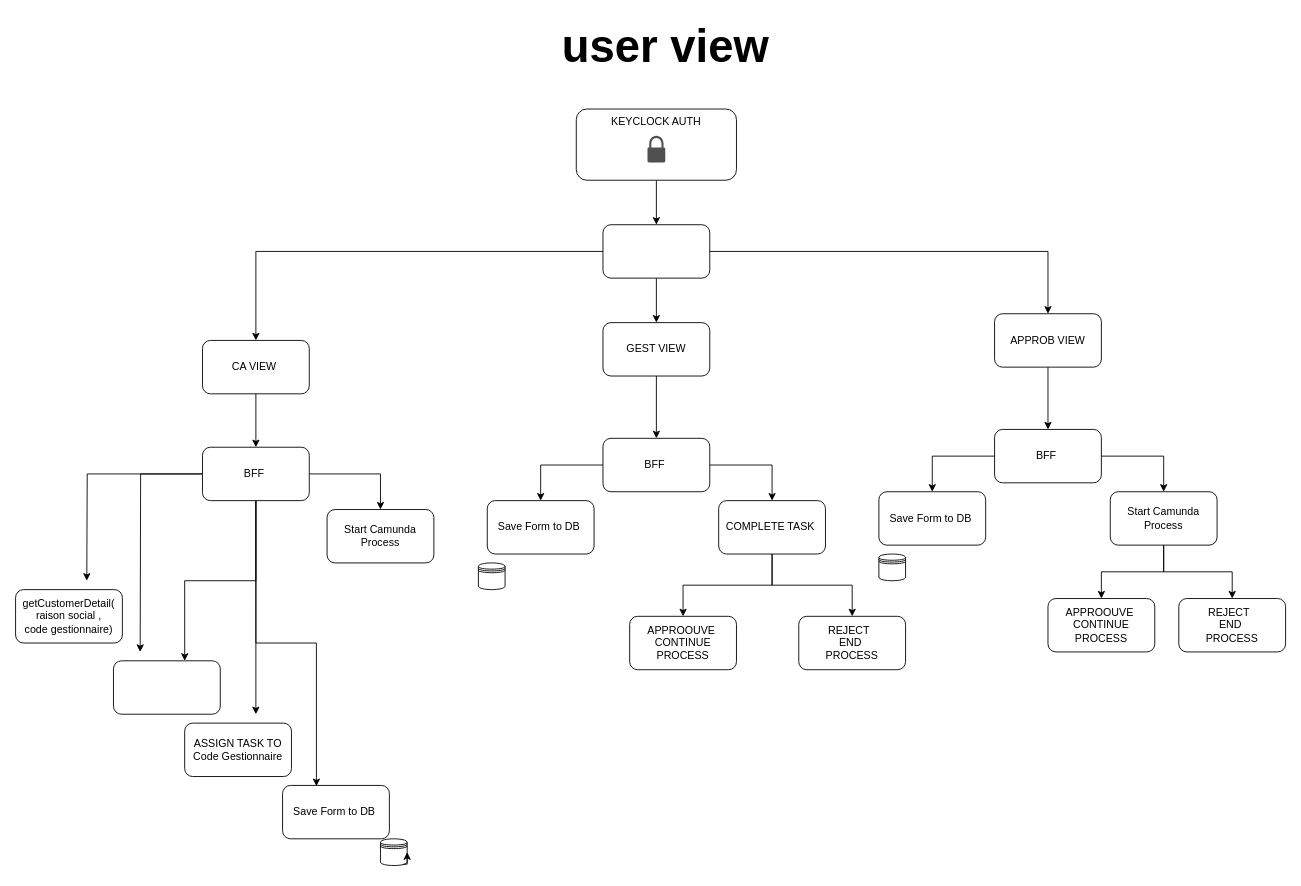
Some shapes in this 1301 by 886 pixel diagram are drawn without their labels. Here are the shapes that lost their labels. From the top down, the centre of each, then its label:
point 656,251: AUTHORIZE ON ROLE
point 166,687: Start Process on Load ( on sacan document or on validate form )
